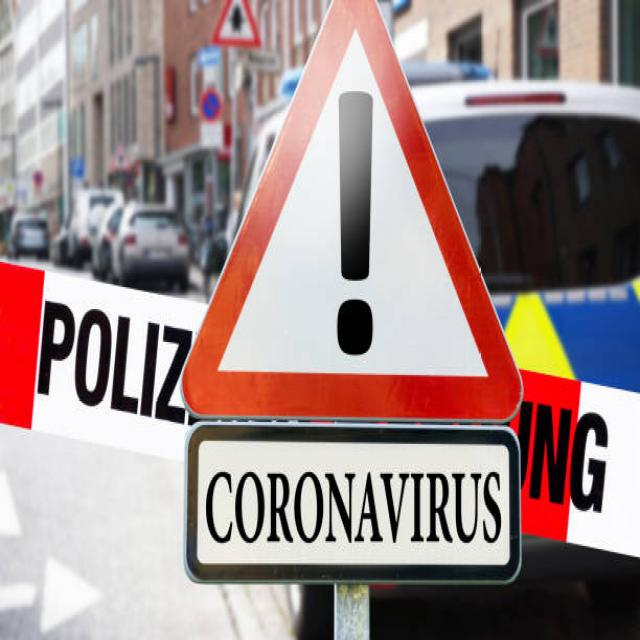warning: (176, 0, 531, 423)
